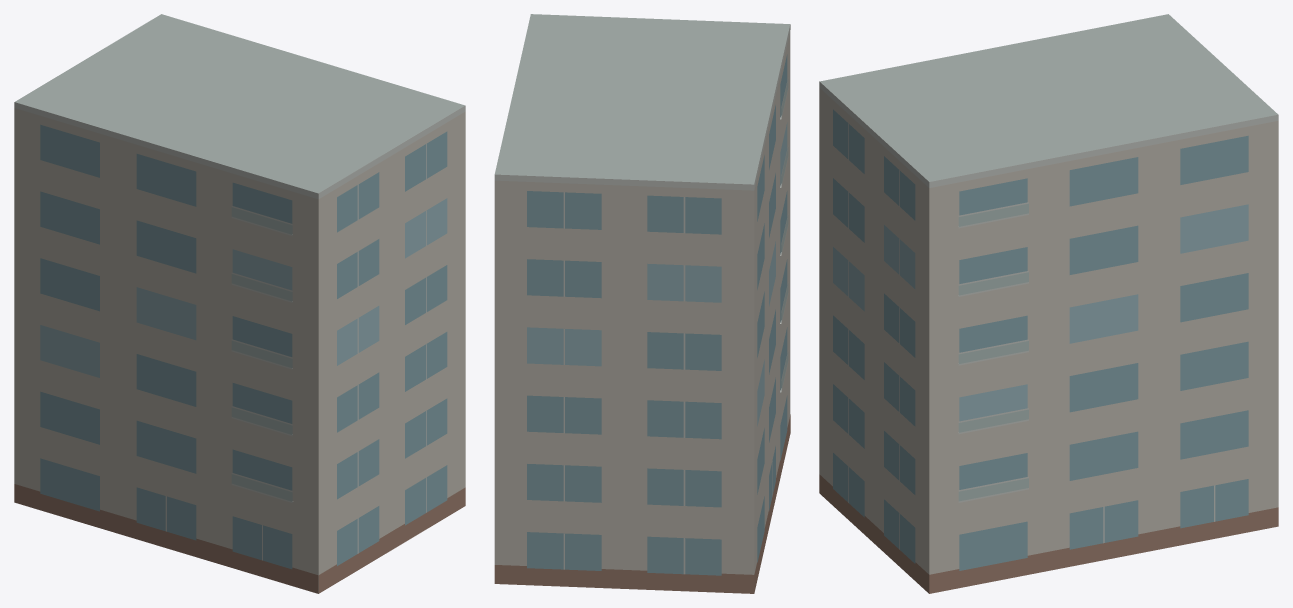
File: survey-upis-32697541.glb
3 renders of one model, left to right at view 1: azimuth 30°, elevation 25°; view 2: azimuth 150°, elevation 25°; view 3: azimuth 270°, elevation 25°, orthographic. The views are drawn at different scales.
Parts seen in each view (by area): view 1: survey-upis-32697541.tmp; view 2: survey-upis-32697541.tmp; view 3: survey-upis-32697541.tmp.
Boxes of the visible parts, x1=… form: survey-upis-32697541.tmp: x1=14, y1=14, x2=465, y2=593; survey-upis-32697541.tmp: x1=494, y1=14, x2=790, y2=593; survey-upis-32697541.tmp: x1=819, y1=14, x2=1278, y2=593.
Size of the model in its own units: 14.45 by 16.5 by 16.68.
